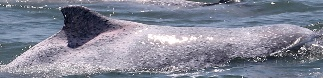fin: (3, 1, 319, 78)
